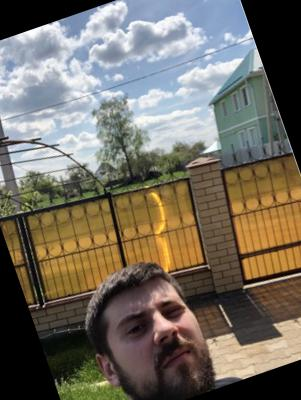without_mask: (101, 283, 220, 400)
